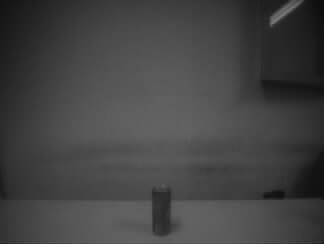Tin can: (151, 182, 172, 236)
